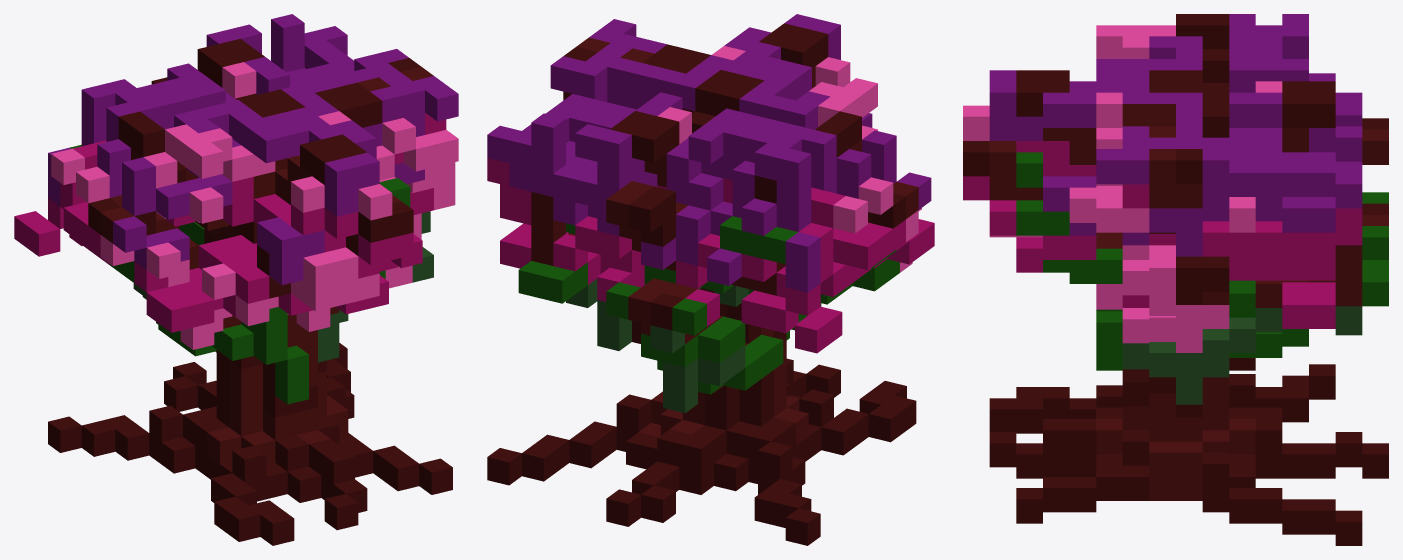
File: Juan_Sebastian_Rocha_Ballen_fase_3.obj
3 views of the same model, side by side, from view 1: azimuth 30°, elevation 25°; view 2: azimuth 150°, elevation 25°; view 3: azimuth 270°, elevation 25° (orthographic). The views are drawn at different scales.
Parts seen in each view (by area): view 1: Juan_Sebastian_Rocha_Ballen_fase_3; view 2: Juan_Sebastian_Rocha_Ballen_fase_3; view 3: Juan_Sebastian_Rocha_Ballen_fase_3.
Boxes of the visible parts, <box> form: Juan_Sebastian_Rocha_Ballen_fase_3: <box>14,14,458,545</box>; Juan_Sebastian_Rocha_Ballen_fase_3: <box>487,14,934,545</box>; Juan_Sebastian_Rocha_Ballen_fase_3: <box>963,14,1388,545</box>.
Size of the model in its own units: 16 by 16 by 16.
1 material, 1 textured.
